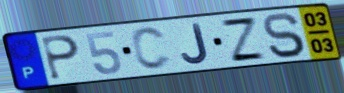5: (83, 29, 124, 76)
C: (129, 25, 174, 72)
J: (180, 22, 212, 66)
P: (39, 34, 81, 82)
S: (261, 11, 308, 59)
Z: (218, 16, 269, 63)
